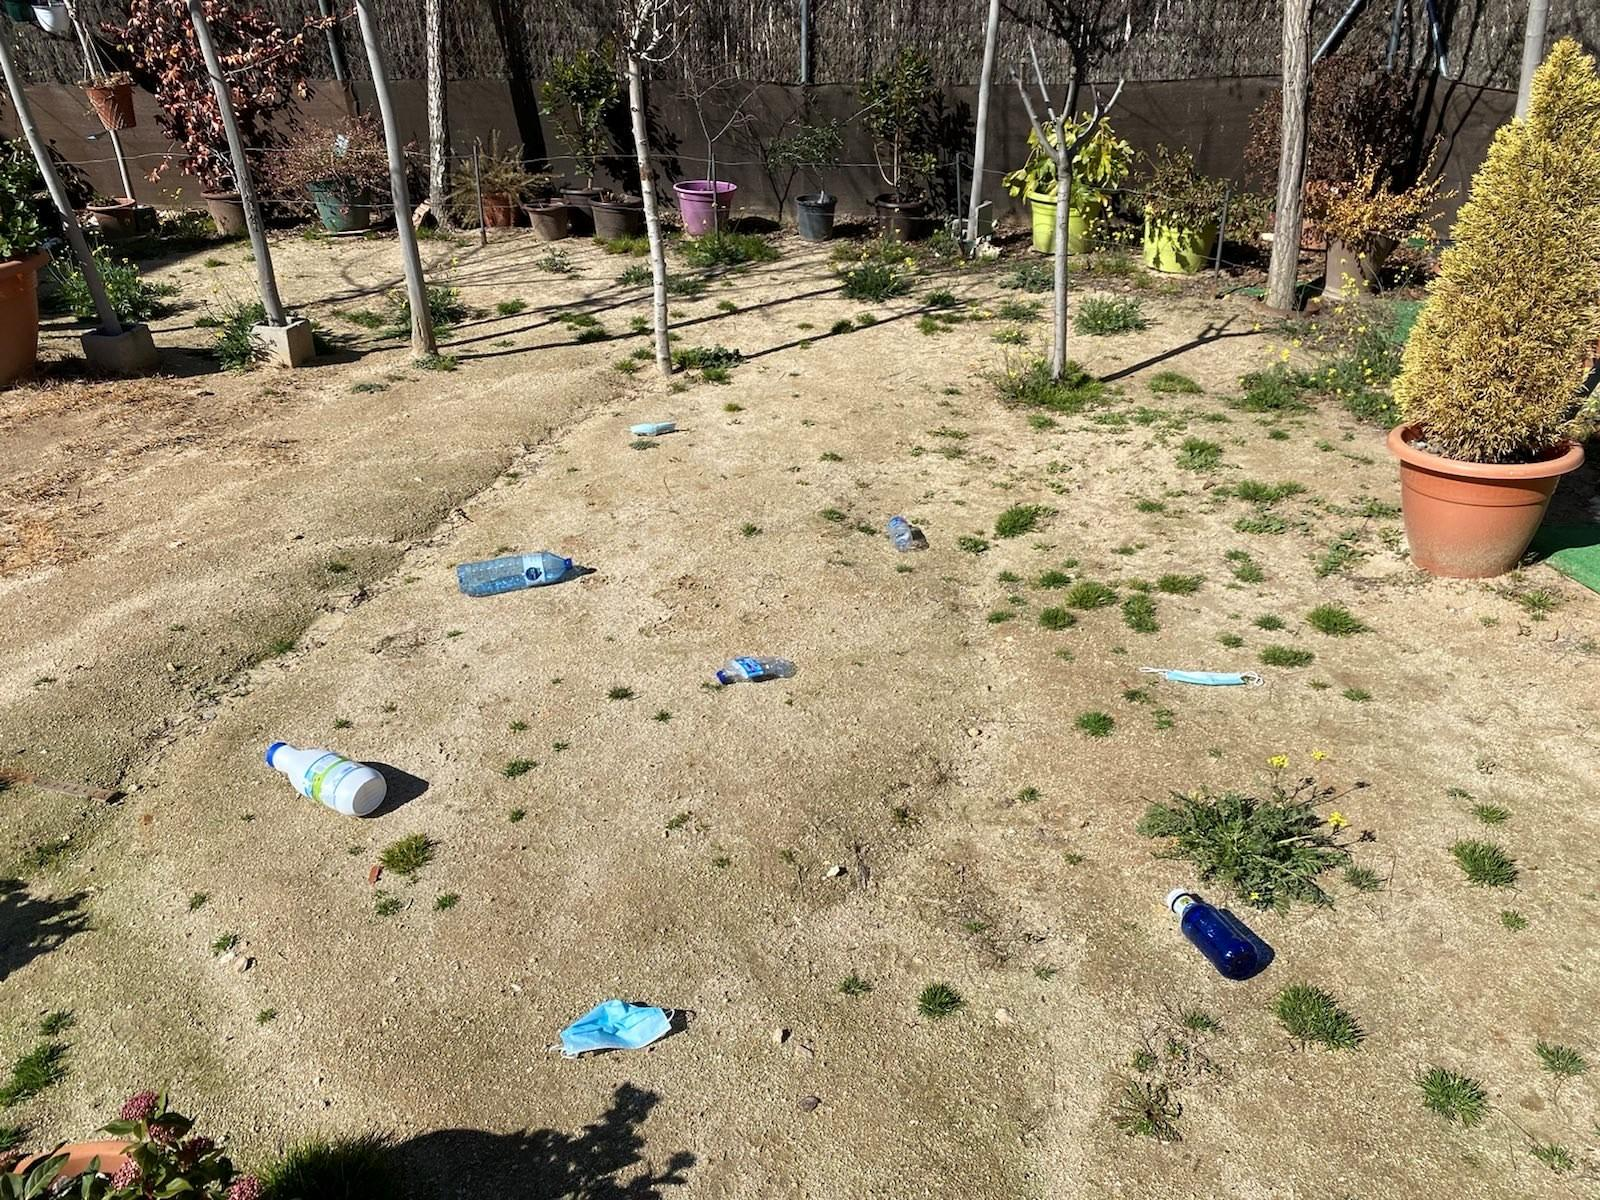bottle: (1134, 862, 1295, 1003), (229, 712, 401, 833), (403, 528, 557, 610), (673, 626, 795, 722), (855, 480, 937, 570)
